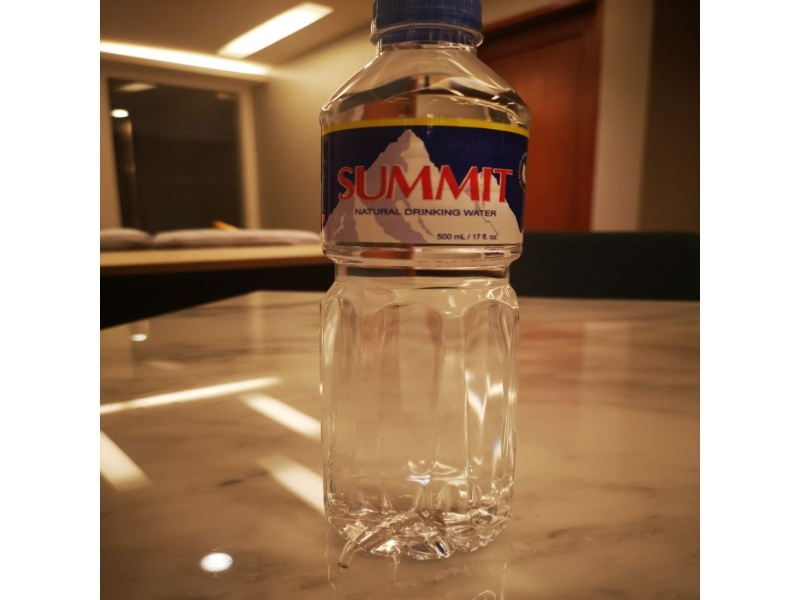PET #1: (314, 4, 522, 567)
